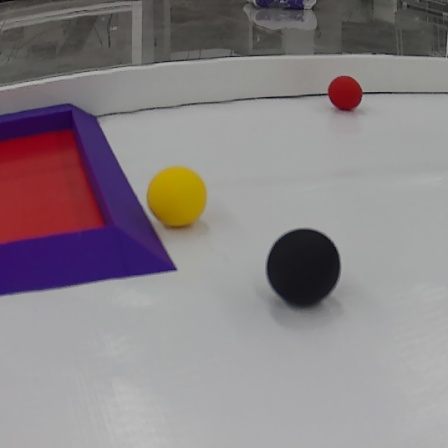black: (267, 229, 341, 312)
red: (327, 75, 364, 116)
red_aim: (2, 96, 180, 302)
yellow: (145, 166, 206, 232)
